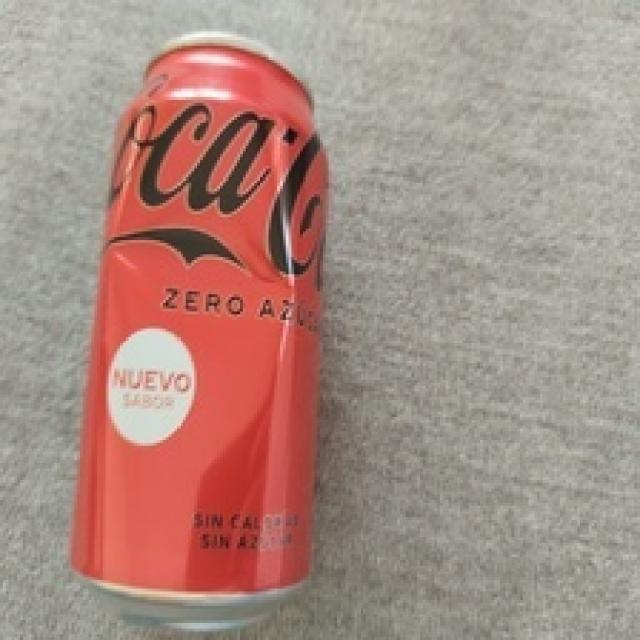recyclable: (66, 31, 332, 634)
